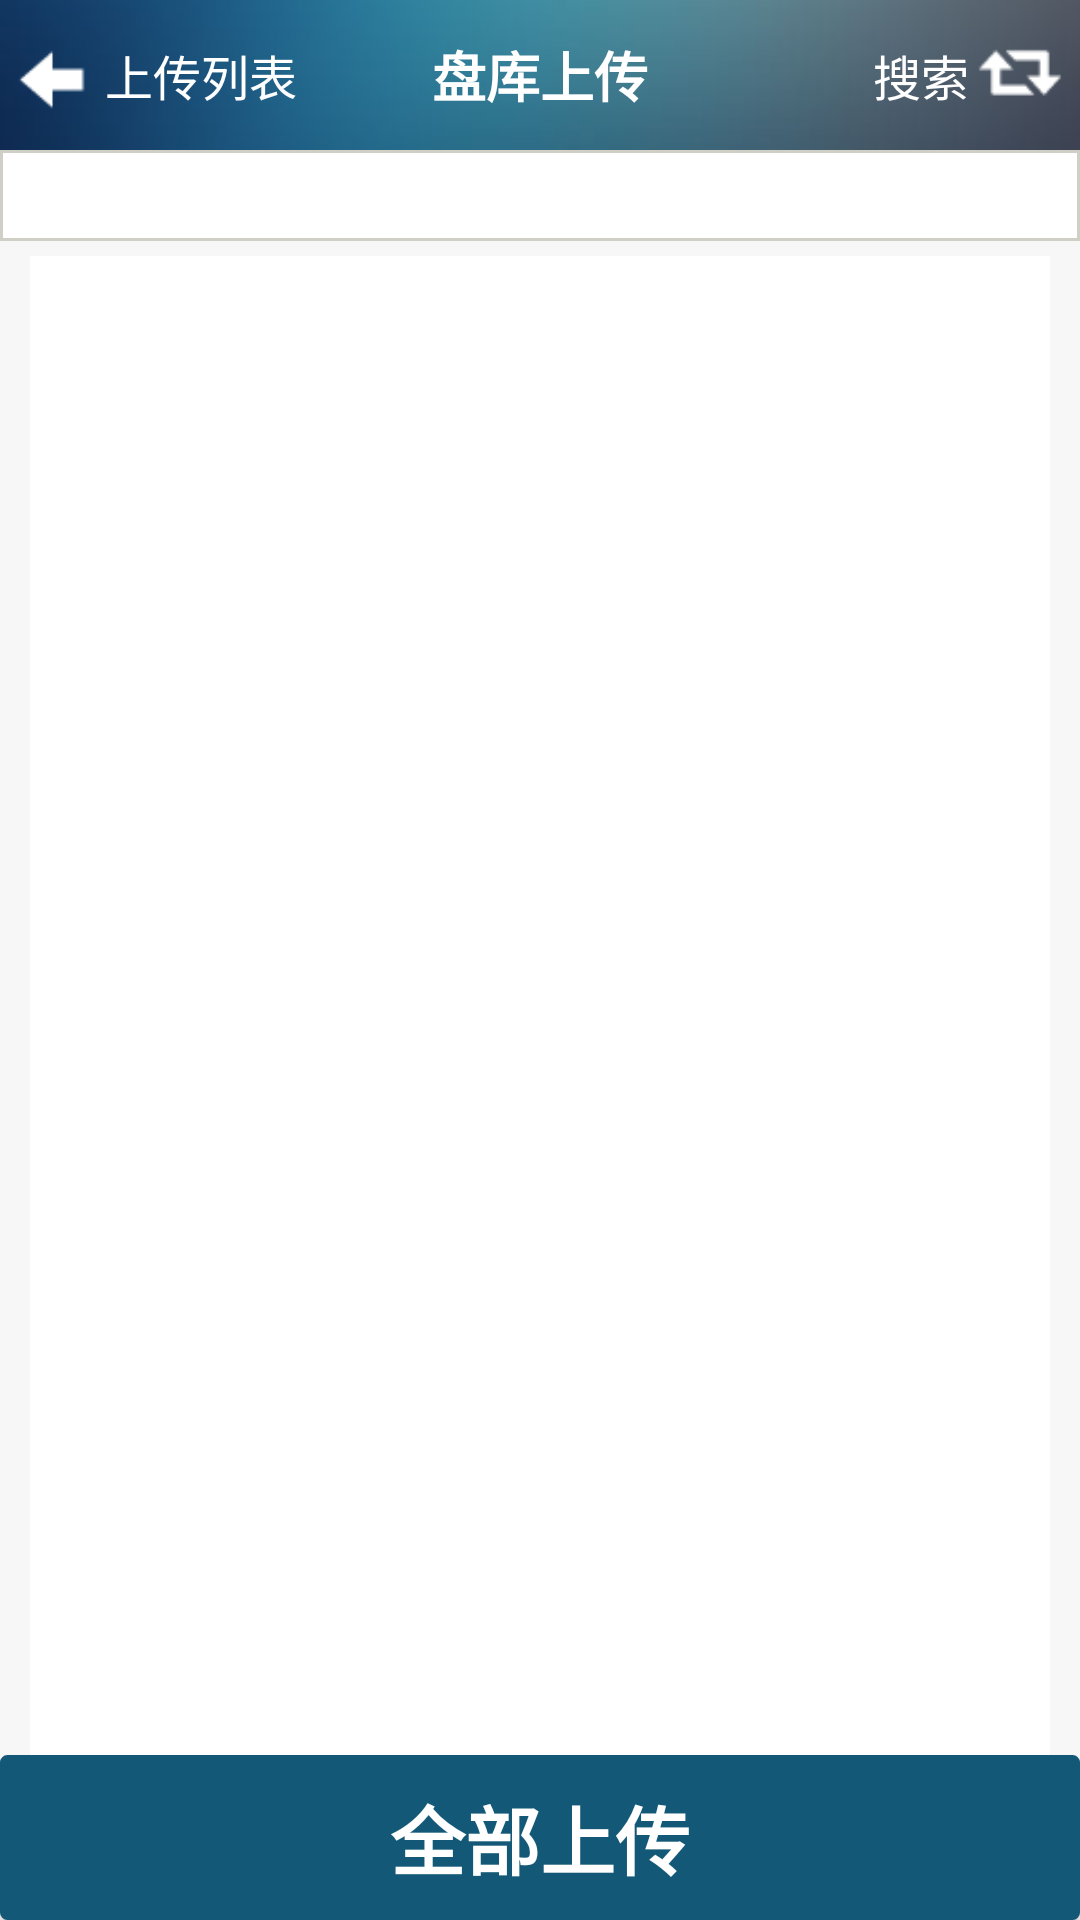

Point at icon controls on the screen. Image size 1080px×1920px, points as [x,y].
info back: [52,79]
info refresh: [1020,72]
